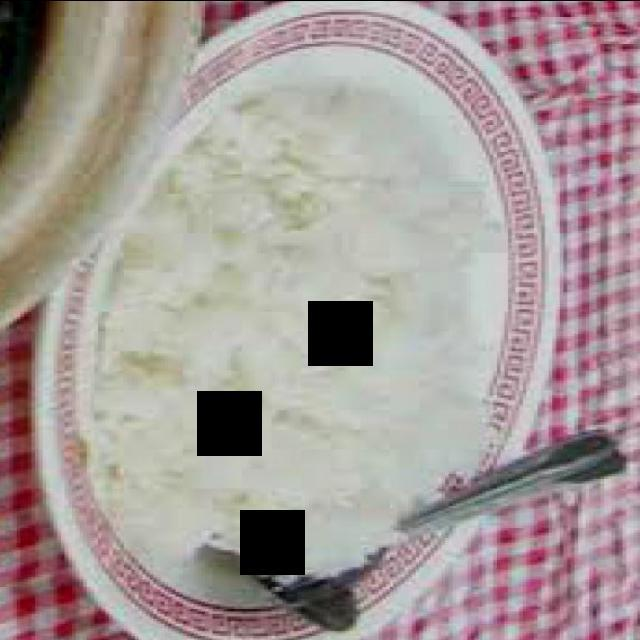rice: (100, 91, 491, 574)
